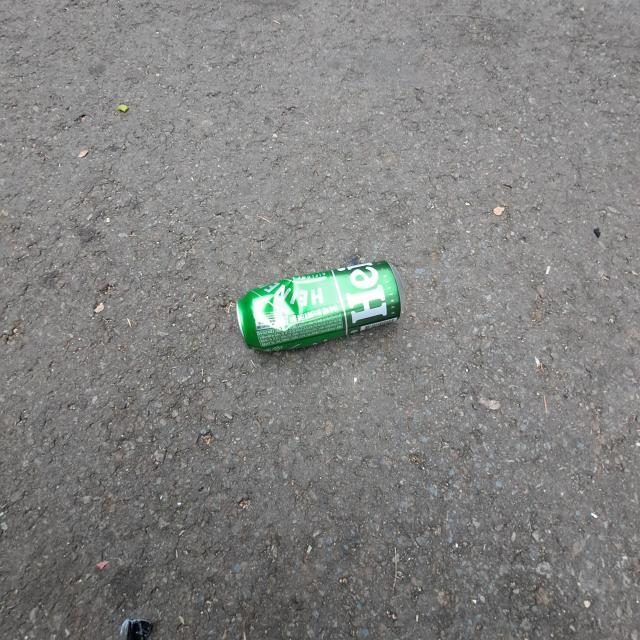can: (236, 261, 405, 352)
